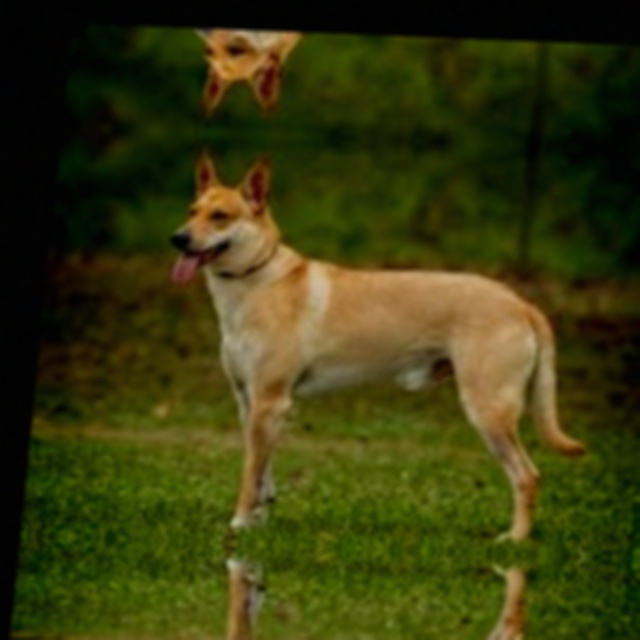dog: (120, 140, 625, 557), (162, 27, 636, 139), (109, 539, 584, 640)
